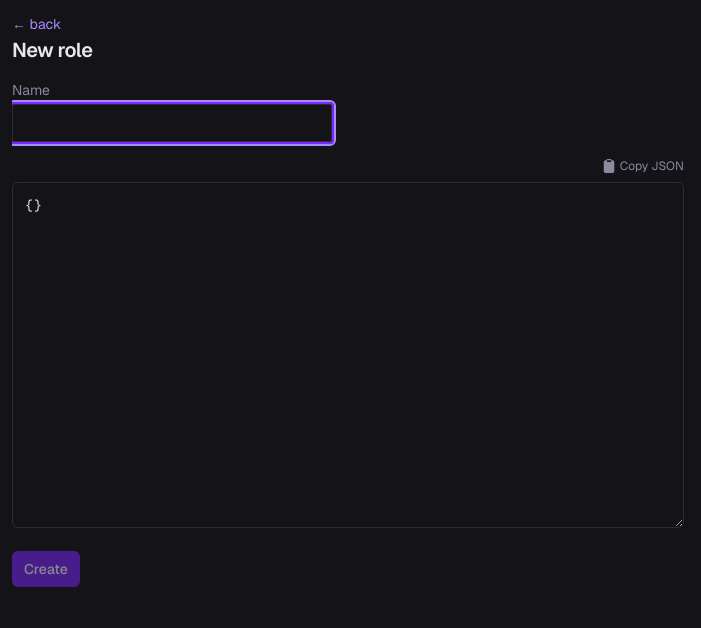
Test: blocks an invalid name with an inline error and a disabled Create
In the field labelled "Name": (172, 123) [12,104,332,142], type "web.server"
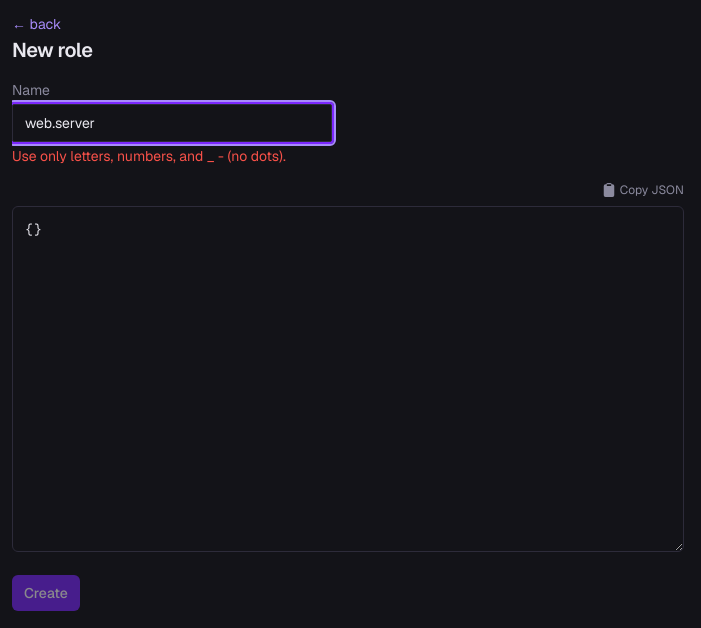
Expected: the button "Create" is disabled, [12,575,80,611]
Expected: the message shows "no dots", [12,147,286,165]
